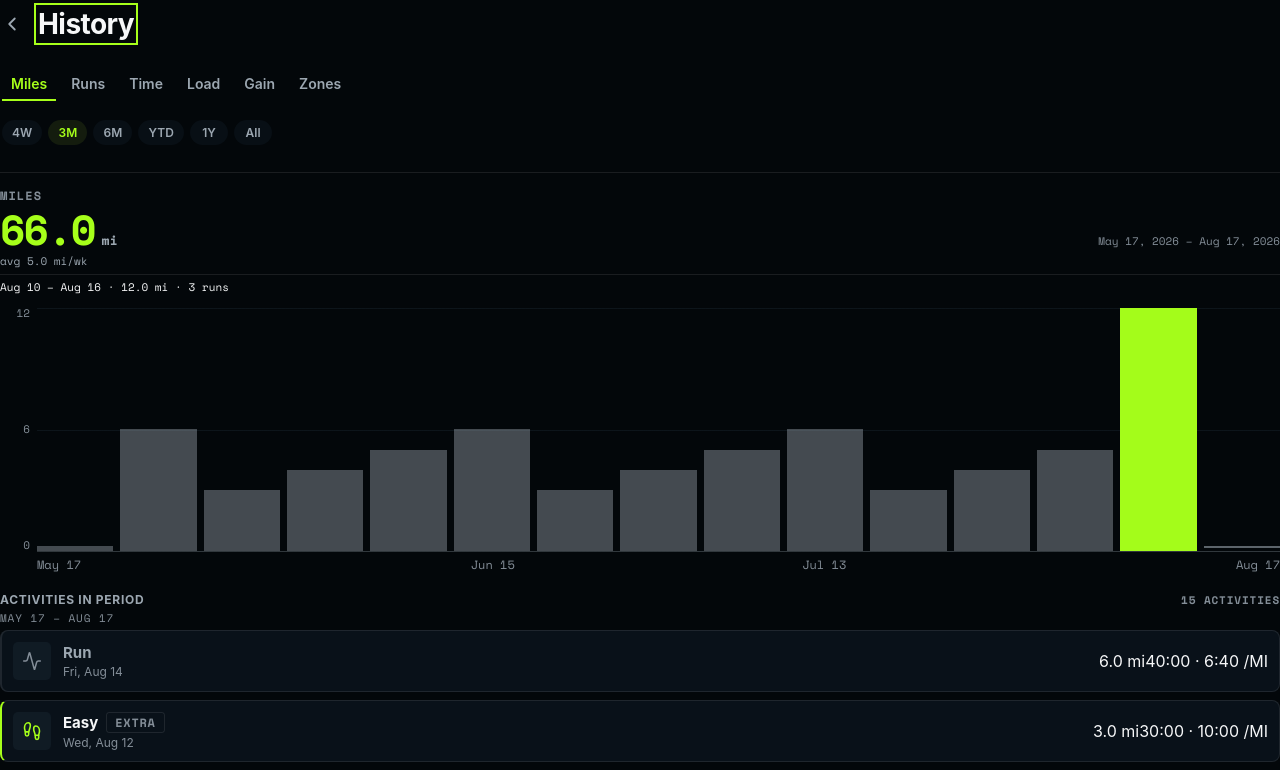
Test case: History Explorer charts › draws exactly four columns for 4W
This screenshot has width=1280, height=770.
Step 1. Click the button "4W" → click(22, 132), box [0,110,44,154]
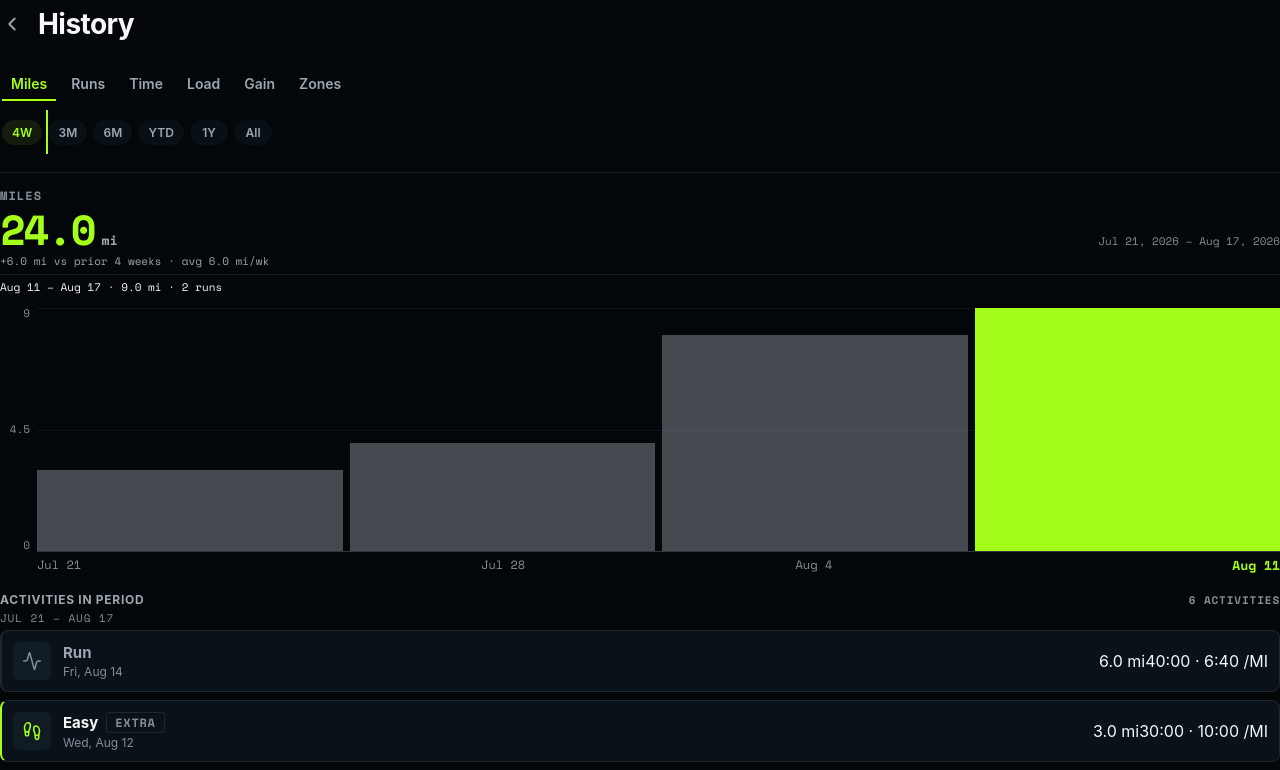
Check: the number of elements with class "history-chart__bar-slot" is 4, box [37,470,342,551]; [350,443,655,551]; [662,308,968,551]; [974,308,1279,551]
